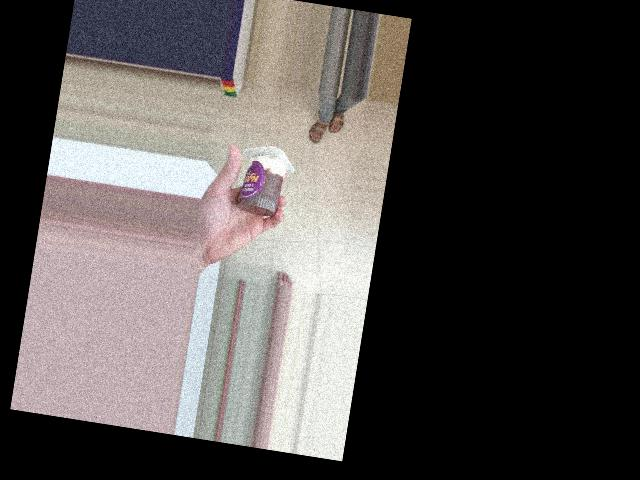milky: (232, 138, 296, 224)
